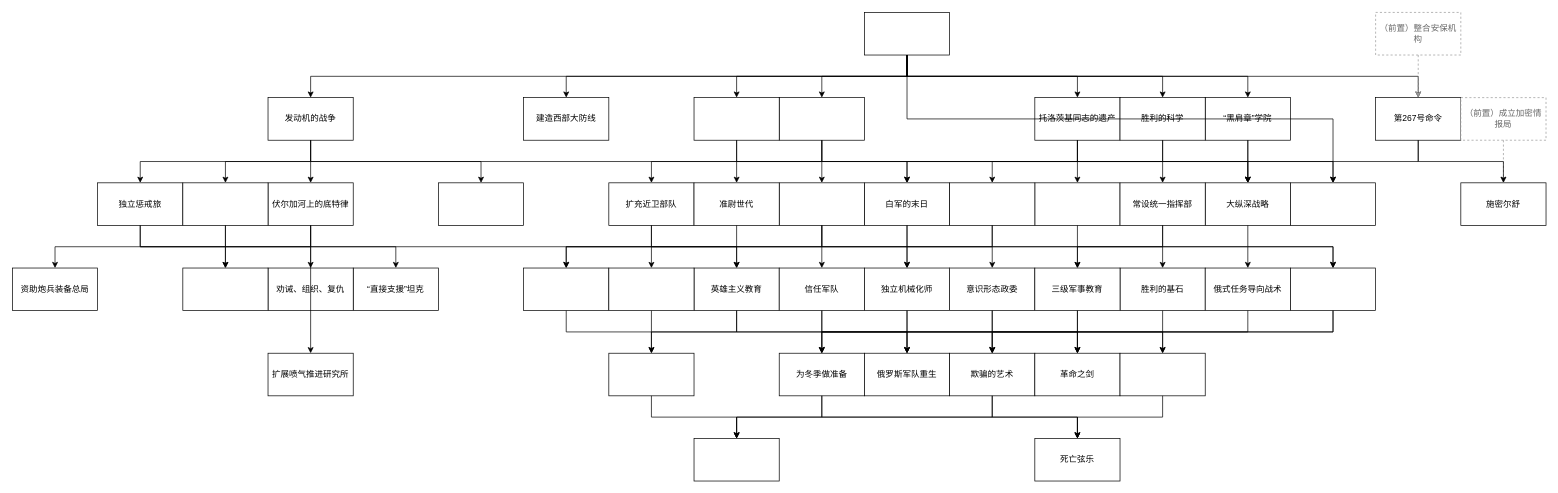
This 1558x493 diagram has some shape labels left out. The shapes that lost their labels are listed below. From the top down, each one's centre as x and y in pixels, then its label:
At [907,33]: "处理陆军".
At [736,118]: "胜利的意志".
At [821,118]: "继承最高统帅部".
At [225,203]: "GOST认证".
At [481,203]: "勇气之路".
At [821,203]: "新式骑兵".
At [992,203]: "苏沃洛夫之锤".
At [1077,203]: "组建民主近卫军".
At [1333,203]: "动员哥萨克军团".
At [225,289]: "宏大机械化计划".
At [566,289]: "军队宣传部".
At [651,289]: "最小牺牲".
At [1333,289]: "技术霸权".
At [651,374]: "公民军国主义".
At [1162,374]: "学说统一".
At [736,459]: "钢铁之军".
